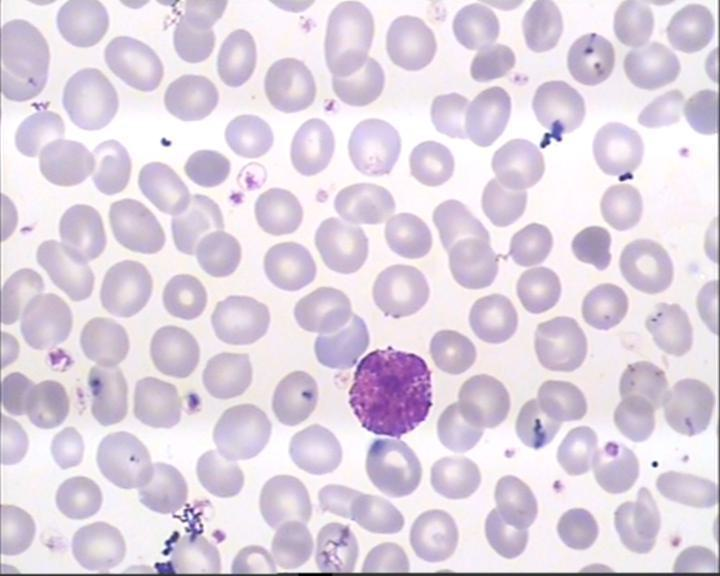baso: (340, 344, 436, 441)
